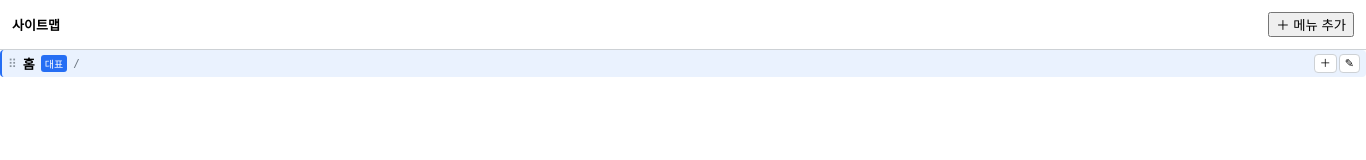
Test: SitemapTree › 편집 중 제목을 입력하면 slug가 자동 생성된다
Click the button "＋ 메뉴 추가": coordinates (1311, 24) top-left (1268, 12), bottom-right (1354, 37)
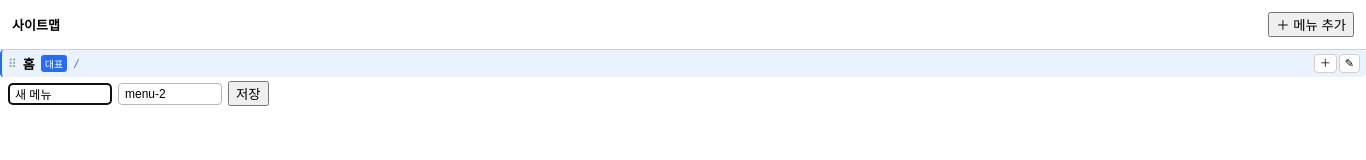
Replace the text in the field named "제목" with "About Us": coordinates (60, 94) top-left (8, 82), bottom-right (112, 104)
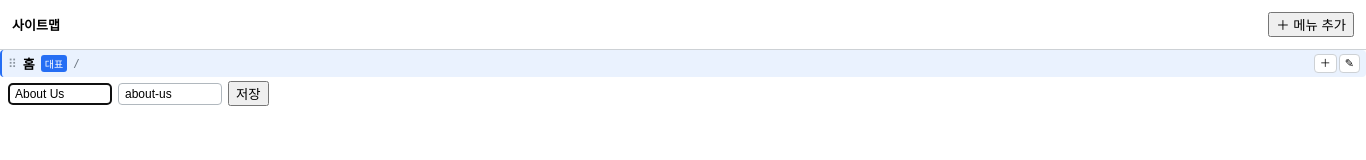
Now the field named "slug" holds "about-us", box top-left (118, 82), bottom-right (222, 104)
